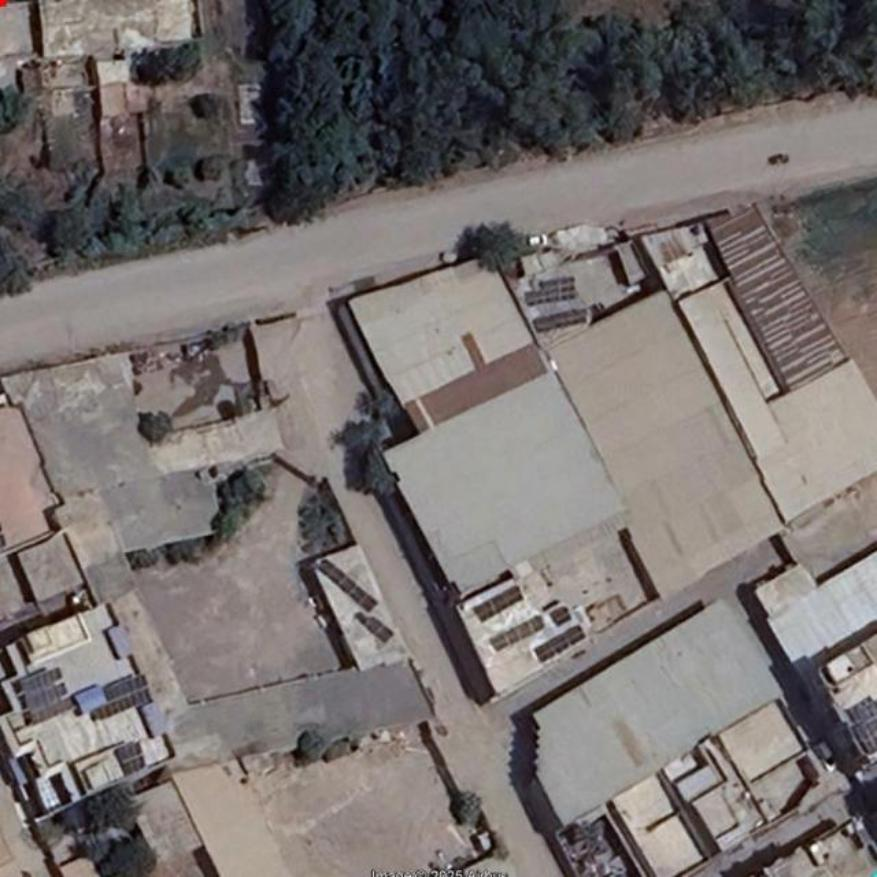Solarpanel: (316, 561, 377, 613), (18, 666, 75, 720), (86, 676, 151, 721), (473, 582, 523, 621), (534, 626, 586, 662), (849, 692, 876, 751), (534, 309, 587, 329), (531, 281, 576, 304), (363, 615, 393, 645), (115, 744, 144, 773)
